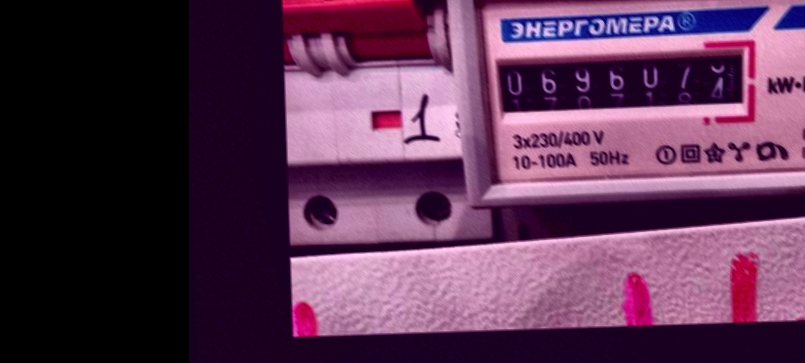0: (641, 59, 660, 90), (507, 68, 525, 96)
4: (709, 72, 727, 102)
6: (609, 61, 626, 91), (541, 66, 559, 94)
7: (675, 59, 695, 91)
9: (574, 64, 592, 93)
screen: (484, 36, 763, 129)
